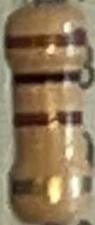Black: (15, 67, 84, 87)
Brown: (5, 27, 86, 48), (14, 111, 84, 128)
Side-Gold: (9, 176, 92, 195)
